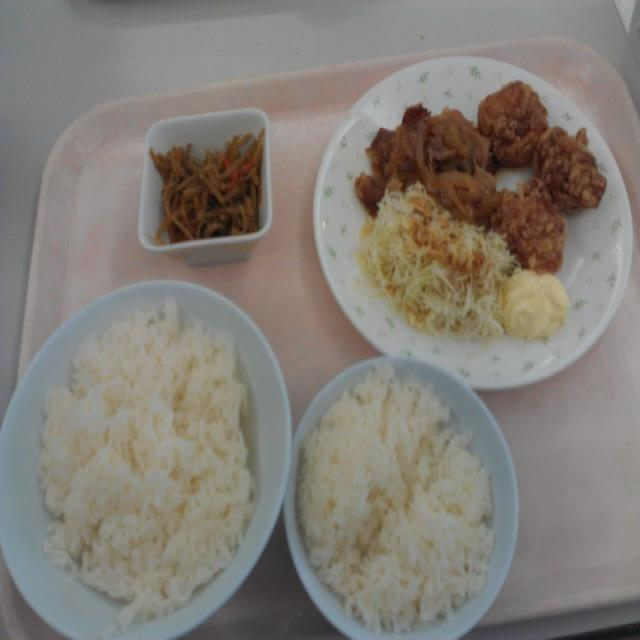Rice: (31, 309, 277, 615)
